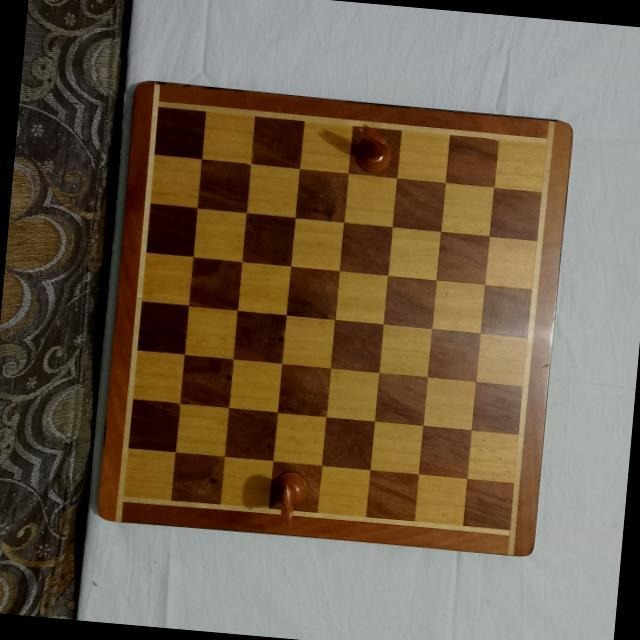white-knight: (267, 470, 309, 529), (348, 122, 395, 174)
